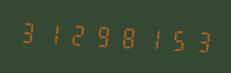eight: (113, 19, 136, 54)
five: (161, 22, 184, 56)
nine: (89, 18, 112, 52)
one: (41, 16, 64, 50), (137, 21, 160, 55)
three: (17, 14, 40, 49), (185, 23, 208, 57)
two: (65, 17, 88, 51)
